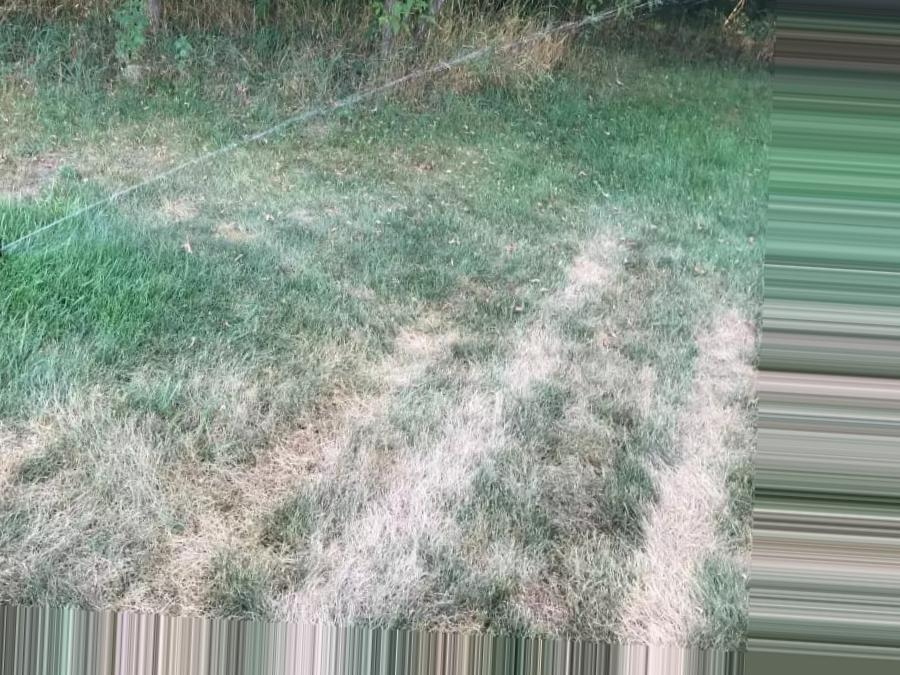patch: (324, 477, 459, 649), (29, 458, 146, 570), (177, 473, 288, 579), (604, 545, 692, 642), (457, 389, 550, 467), (662, 411, 712, 503), (290, 427, 381, 473), (390, 431, 443, 475)
